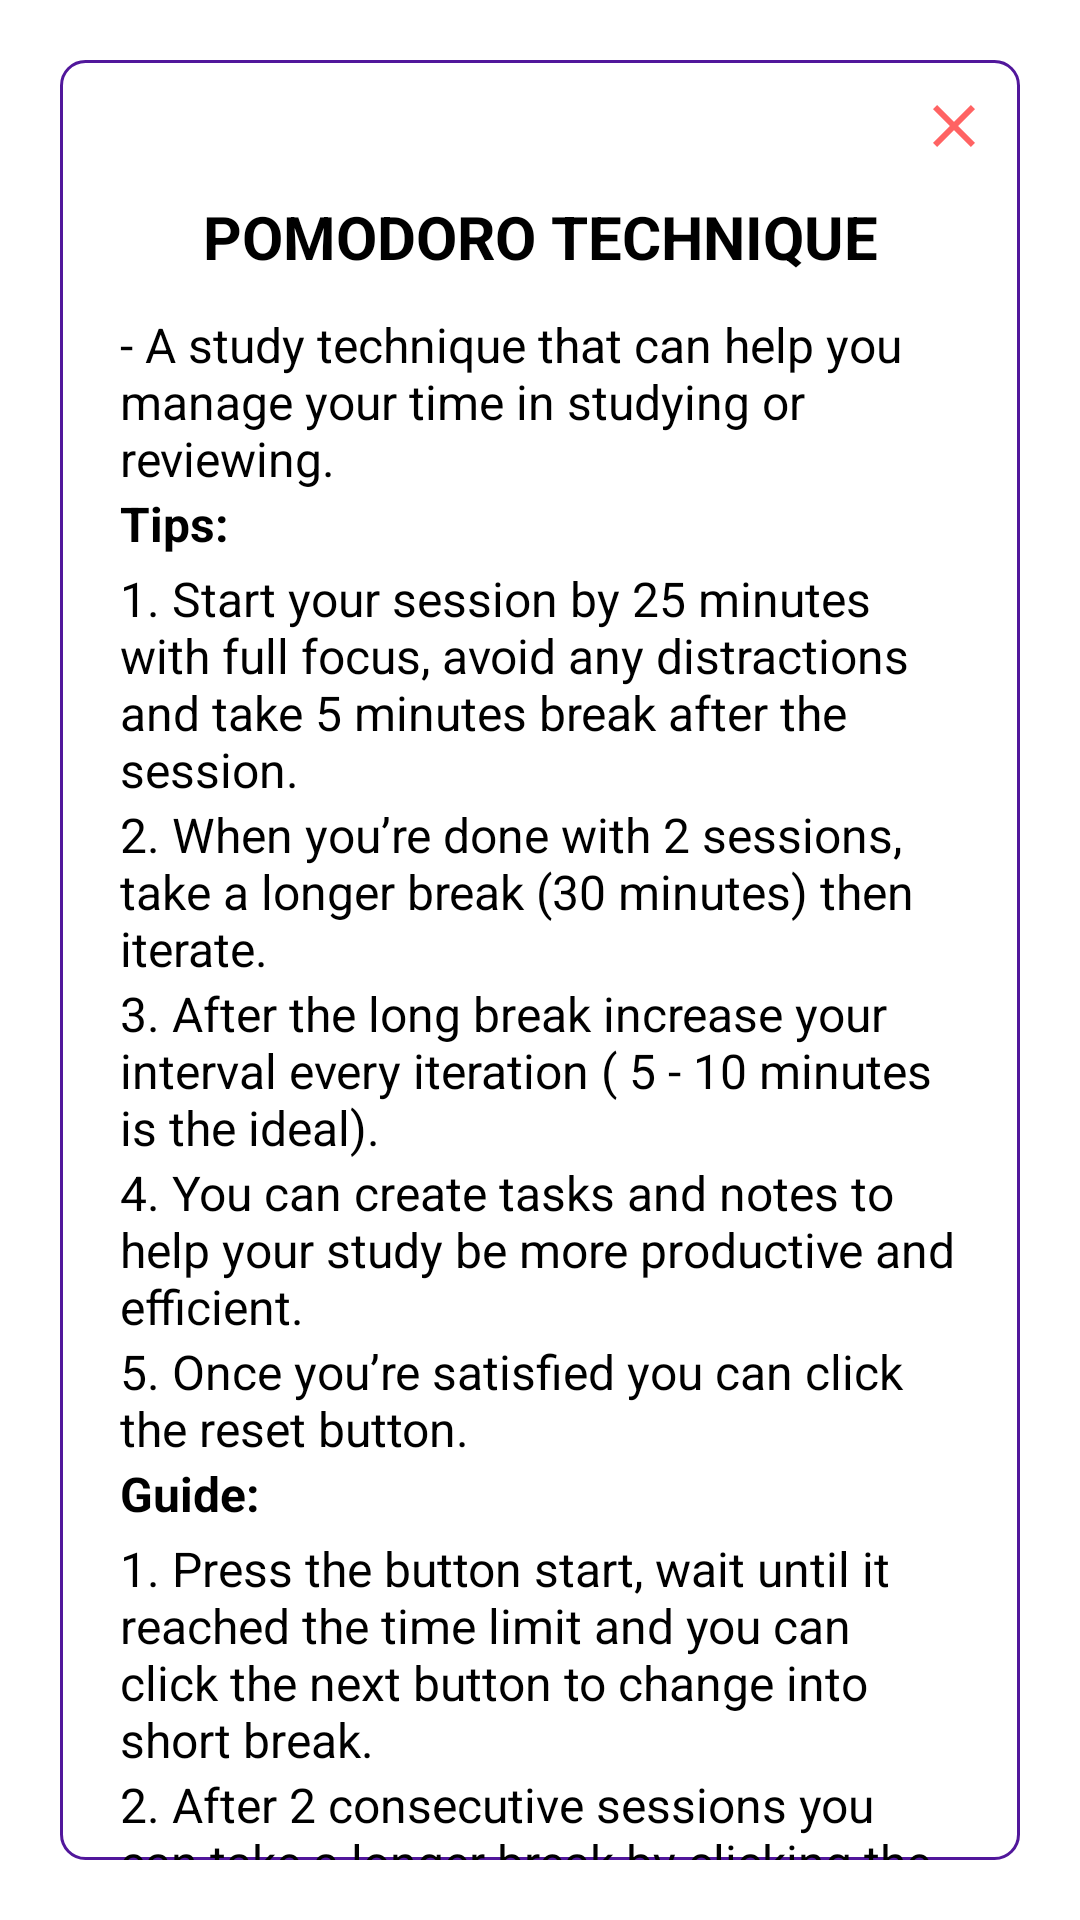

Icon bounding boxes for this 1080w x 1920h phone screenshot, format (x1, y1, x2, y2):
close: (933, 105, 975, 147)
